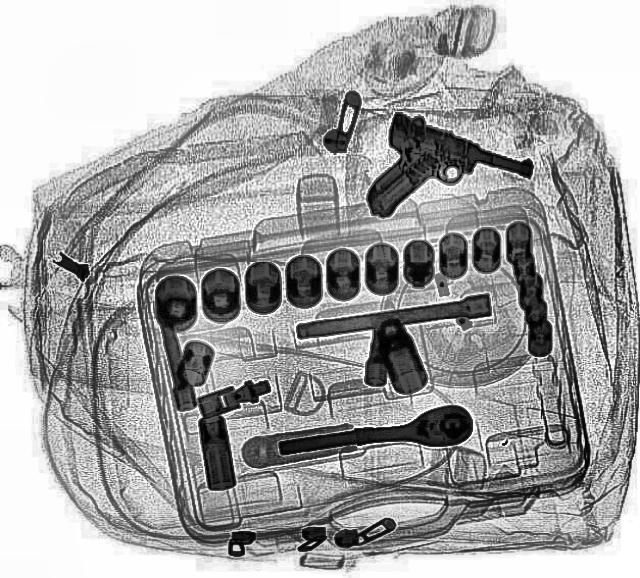Gun: (352, 109, 540, 253)
